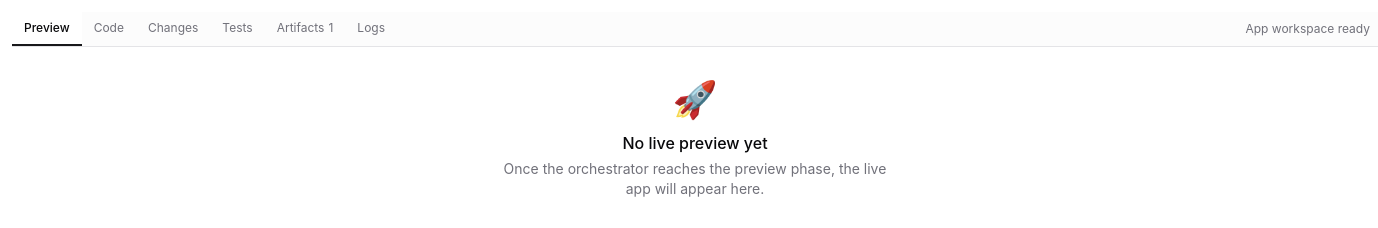
Test: app artifact workspace › browses app files without requiring a running sandbox
What coordinates should you click on to do the following:
click the tab "Code"
I would click on:
 (109, 29)
Its box is [82, 12, 136, 46].
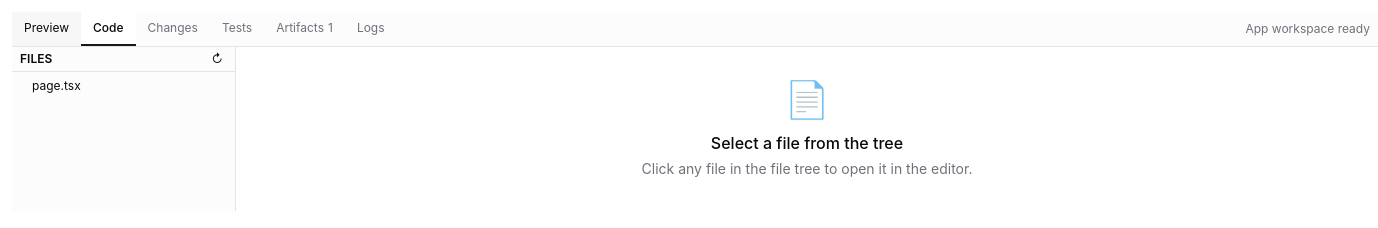
Now the button "page.tsx" is shown, box [12, 74, 235, 98]
